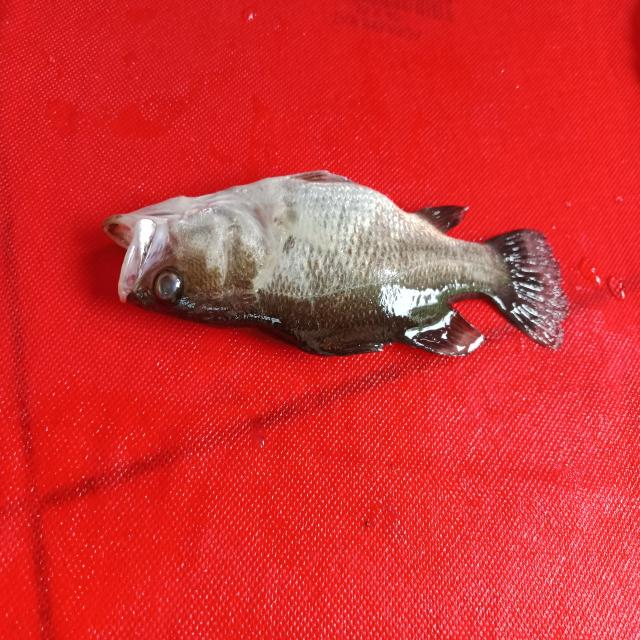ikan: (85, 152, 579, 384)
